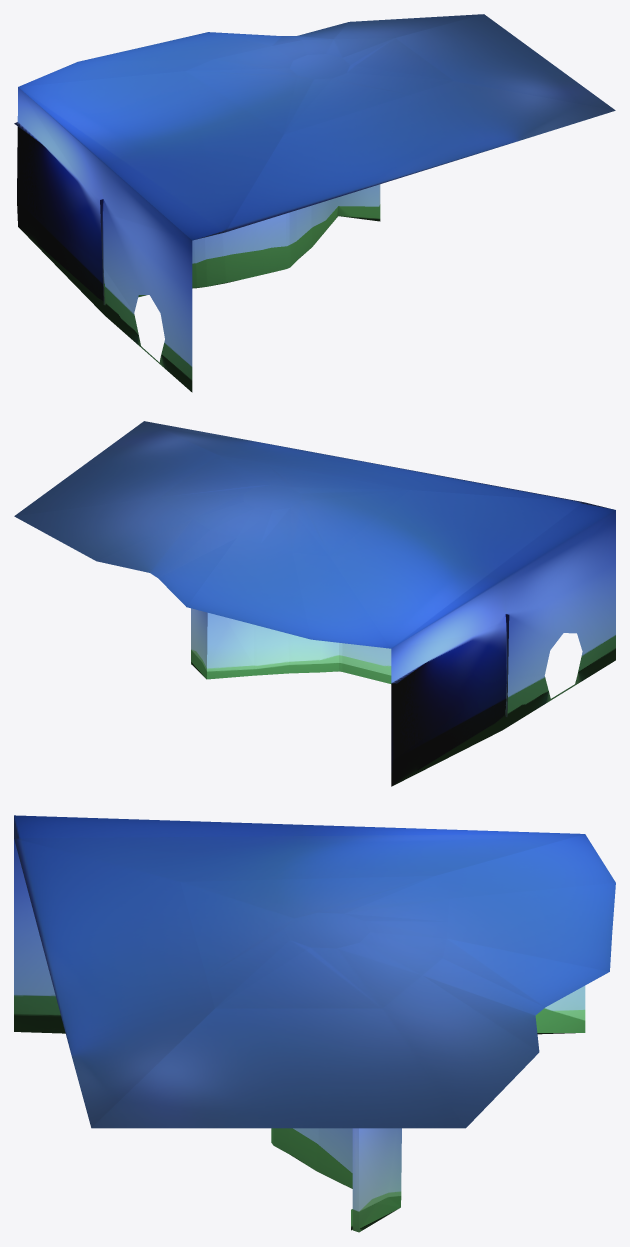
Rendered from scene34divider.glb.
3 renders of one model, top to bottom at view 1: azimuth 30°, elevation 25°; view 2: azimuth 150°, elevation 25°; view 3: azimuth 270°, elevation 25°, orthographic. The views are drawn at different scales.
Parts seen in each view (by area): view 1: Clouds.scene34.baked; view 2: Clouds.scene34.baked; view 3: Clouds.scene34.baked.
Part boxes in pixels (<box>): Clouds.scene34.baked: <box>14,14,615,392</box>; Clouds.scene34.baked: <box>14,421,615,786</box>; Clouds.scene34.baked: <box>14,815,615,1232</box>.
Bounding box in the file's own units: 44.87 × 17.82 × 36.5.
Materials: 1 (1 with a texture image).
